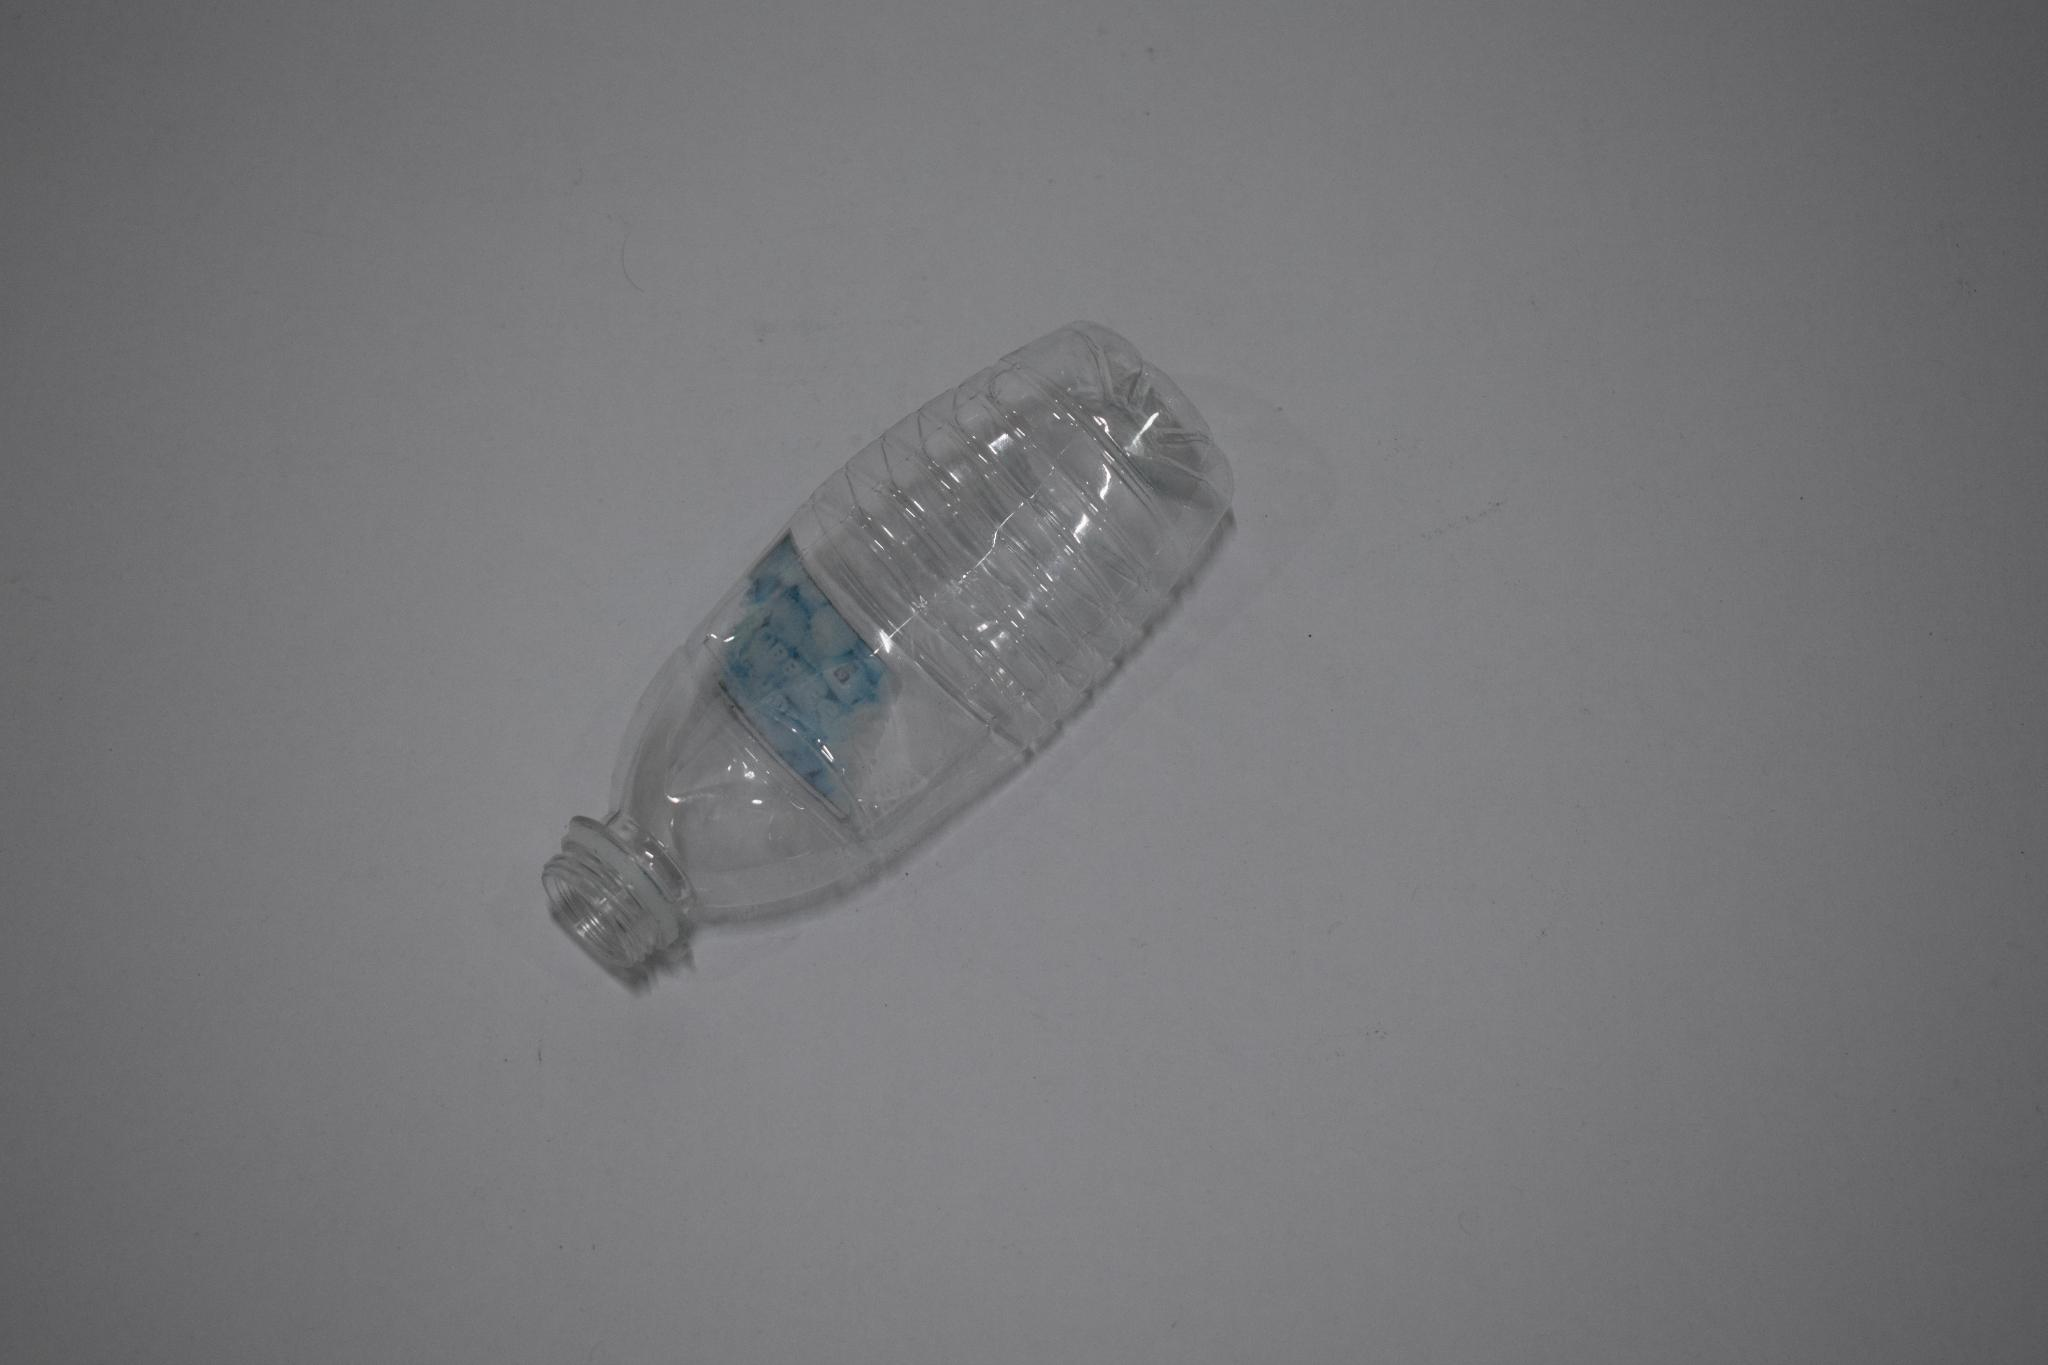bottle: (530, 278, 1266, 976)
